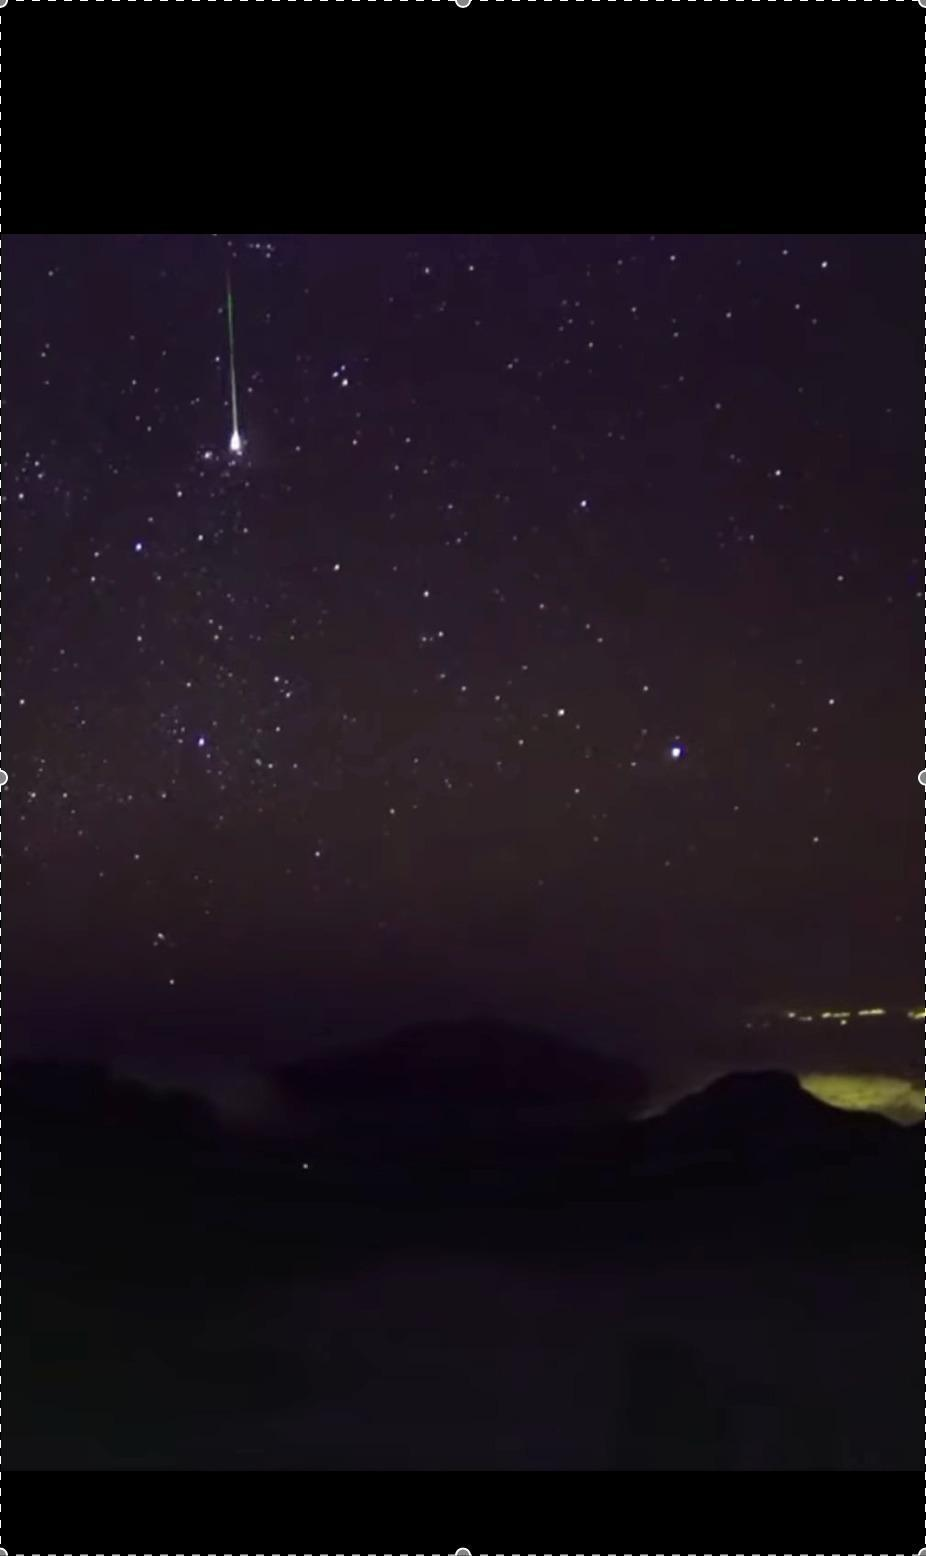meteorite: (209, 248, 257, 462)
